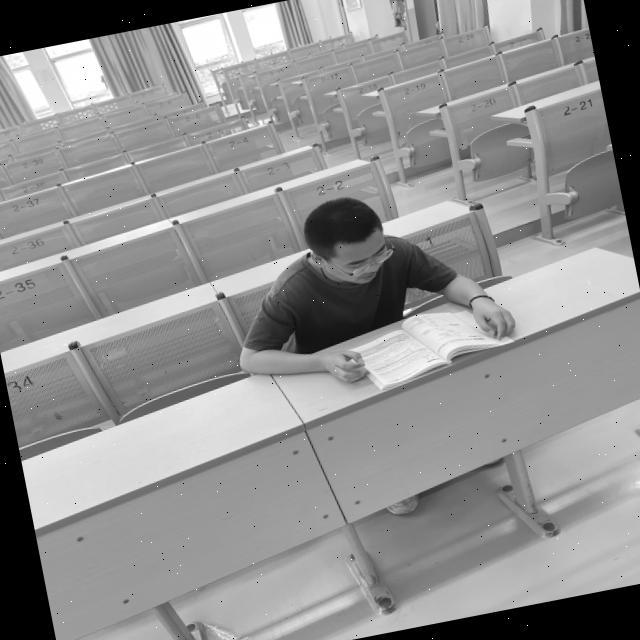study: (211, 168, 526, 403)
